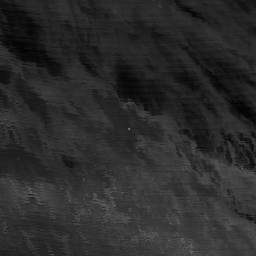Target: (125, 126, 131, 133)
